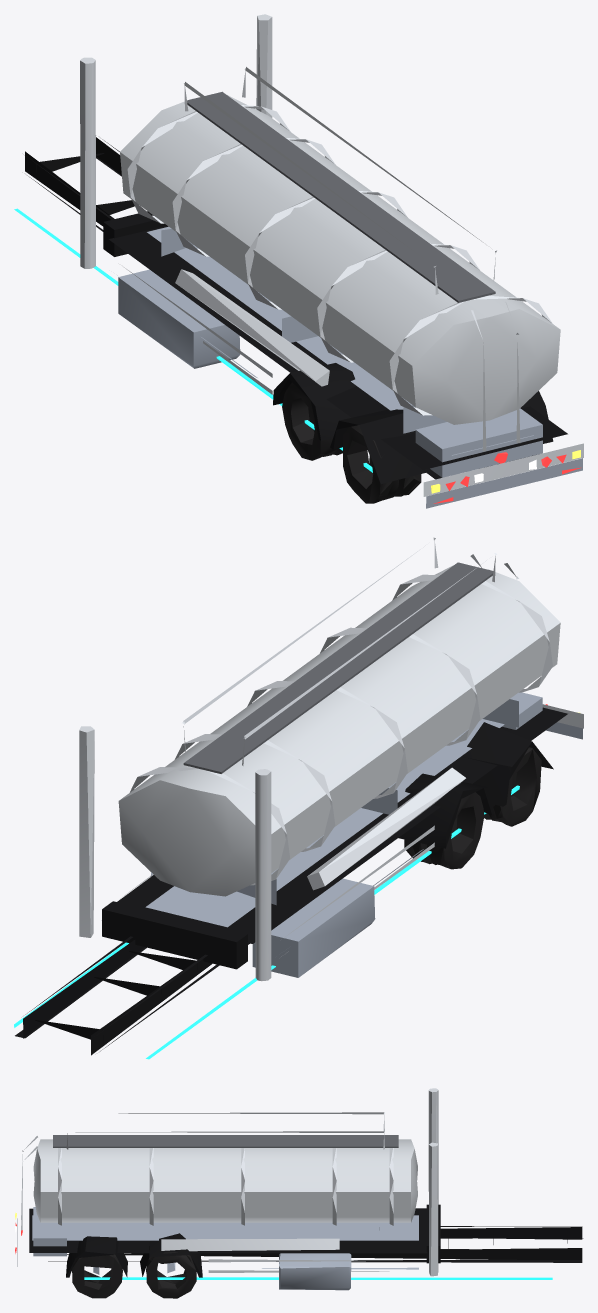
File: body_tanker_lod2.glb
3 views of the same model, one above another, from view 1: azimuth 30°, elevation 25°; view 2: azimuth 150°, elevation 25°; view 3: azimuth 270°, elevation 25° (orthographic). The views are drawn at different scales.
Visible parts, largest first — view 1: lod2_tank_shell, lod2_chrome, lod2frame_plastic_black, lod2_steel, lod2_diamond, lod2frame_steel, lod2_rubber_tire, lod2_plastic_black, lod2frame_lamp_cyan; view 2: lod2_tank_shell, lod2_chrome, lod2frame_plastic_black, lod2_diamond, lod2_steel, lod2frame_steel, lod2_plastic_black, lod2_rubber_tire, lod2frame_lamp_cyan; view 3: lod2_tank_shell, lod2frame_plastic_black, lod2_chrome, lod2_steel, lod2_diamond, lod2_rubber_tire, lod2frame_steel, lod2frame_lamp_cyan, lod2_plastic_black.
Boxes of the visible parts, x1=… form: lod2_tank_shell: x1=120, y1=95, x2=560, y2=424; lod2_chrome: x1=80, y1=14, x2=583, y2=496; lod2frame_plastic_black: x1=25, y1=137, x2=567, y2=483; lod2_steel: x1=147, y1=226, x2=582, y2=508; lod2_diamond: x1=187, y1=91, x2=495, y2=302; lod2frame_steel: x1=117, y1=269, x2=257, y2=377; lod2_rubber_tire: x1=282, y1=382, x2=532, y2=503; lod2_plastic_black: x1=103, y1=211, x2=166, y2=256; lod2frame_lamp_cyan: x1=14, y1=208, x2=372, y2=472; lod2_tank_shell: x1=118, y1=565, x2=560, y2=896; lod2_chrome: x1=79, y1=537, x2=583, y2=981; lod2frame_plastic_black: x1=15, y1=707, x2=567, y2=1055; lod2_diamond: x1=183, y1=562, x2=493, y2=773; lod2_steel: x1=145, y1=692, x2=582, y2=927; lod2frame_steel: x1=101, y1=849, x2=423, y2=977; lod2_plastic_black: x1=102, y1=901, x2=247, y2=969; lod2_rubber_tire: x1=404, y1=747, x2=541, y2=869; lod2frame_lamp_cyan: x1=14, y1=785, x2=519, y2=1059; lod2_tank_shell: x1=33, y1=1139, x2=417, y2=1222; lod2frame_plastic_black: x1=29, y1=1208, x2=583, y2=1277; lod2_chrome: x1=21, y1=1088, x2=438, y2=1276; lod2_steel: x1=17, y1=1207, x2=418, y2=1266; lod2_diamond: x1=53, y1=1135, x2=398, y2=1147; lod2_rubber_tire: x1=71, y1=1252, x2=196, y2=1298; lod2frame_steel: x1=93, y1=1253, x2=418, y2=1290; lod2frame_lamp_cyan: x1=84, y1=1277, x2=552, y2=1279; lod2_plastic_black: x1=426, y1=1204, x2=440, y2=1263.
Bounding box in the file's own units: 2.79 × 3.52 × 11.52.
10 materials, 2 textured.
